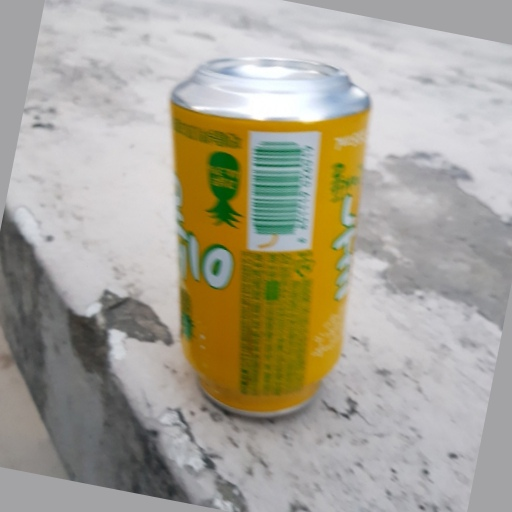Metal_0: (168, 52, 370, 413)
